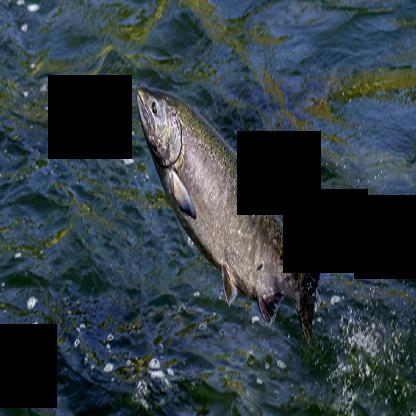fish: (132, 82, 337, 357)
